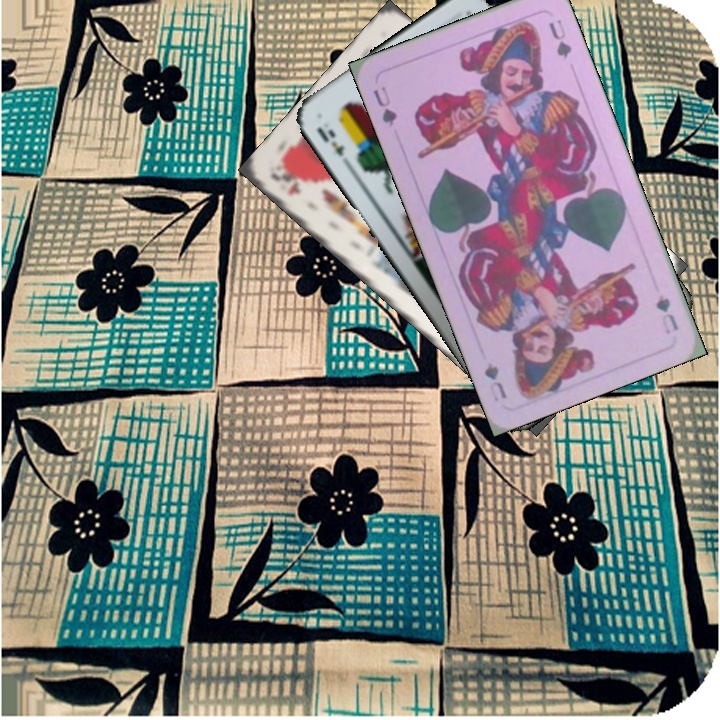EK: (312, 122, 348, 159)
GU: (369, 82, 400, 129), (651, 291, 681, 337)
HK: (267, 164, 304, 198)
